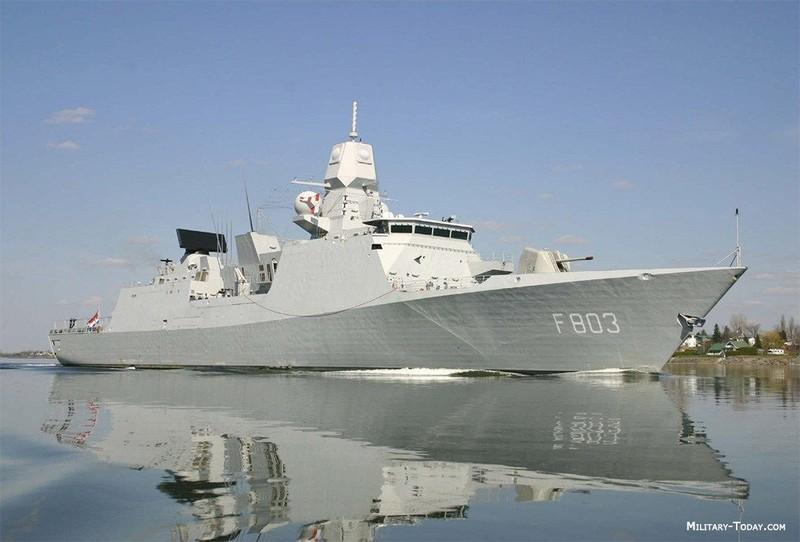MIL_Ship: (47, 135, 744, 379)
